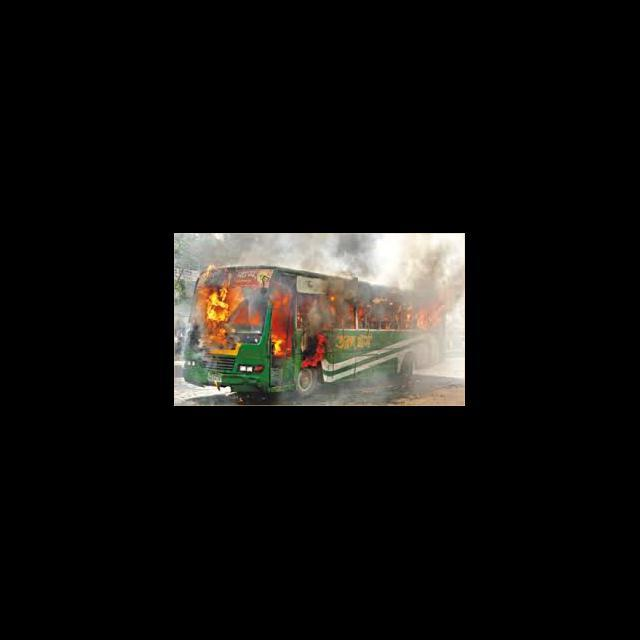Fire: (196, 268, 262, 344), (270, 291, 293, 358), (301, 334, 330, 369), (415, 304, 445, 332), (382, 304, 414, 330), (355, 305, 368, 331), (348, 306, 356, 329), (297, 304, 303, 329), (330, 292, 336, 304), (330, 308, 335, 316)
Smoke: (204, 234, 385, 264), (390, 234, 464, 290), (416, 334, 466, 395), (336, 374, 392, 406), (314, 265, 388, 279), (450, 288, 464, 334), (414, 289, 449, 302)
